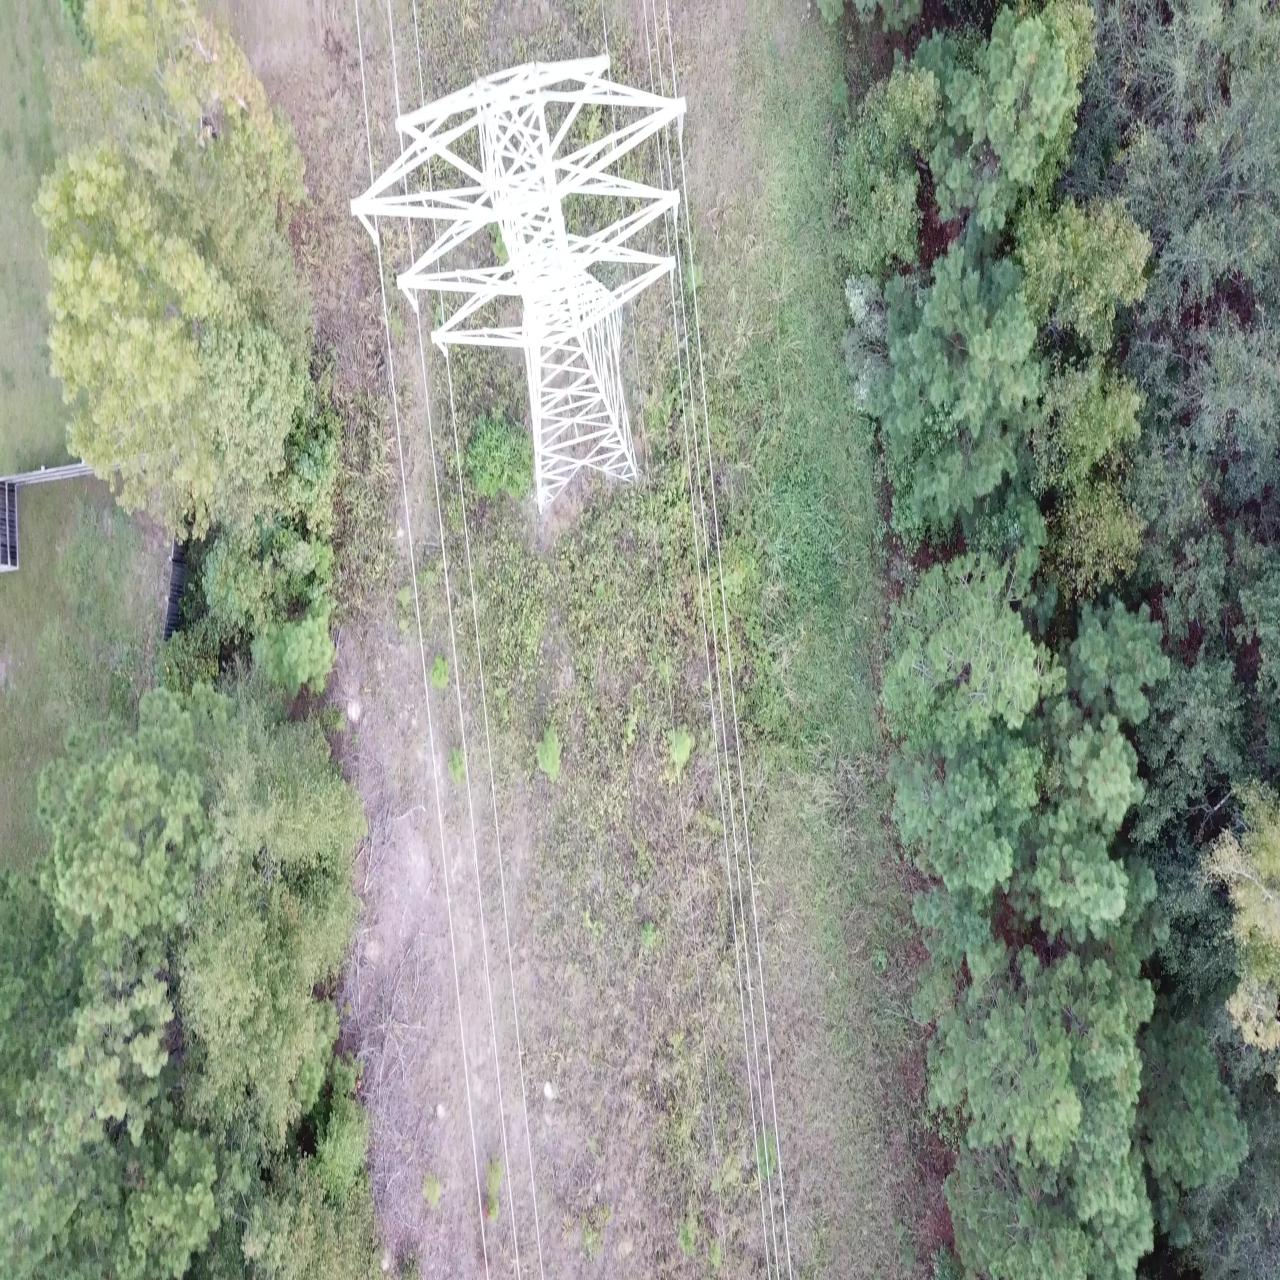cable: (680, 144, 791, 1279), (376, 241, 489, 1279), (675, 225, 779, 1279), (417, 312, 520, 1279), (670, 280, 770, 1279), (631, 299, 729, 1279), (447, 356, 544, 1279), (455, 673, 516, 1279), (355, 0, 373, 185), (387, 0, 401, 118), (413, 0, 424, 105), (666, 0, 678, 98), (653, 0, 663, 96), (644, 0, 654, 94), (666, 124, 673, 190), (656, 131, 663, 189), (601, 0, 608, 55), (408, 218, 414, 266), (665, 212, 670, 257), (440, 291, 444, 325), (400, 131, 403, 155), (434, 219, 437, 241), (617, 159, 620, 177), (625, 240, 626, 247)
tower_lattice: (349, 55, 687, 517)
